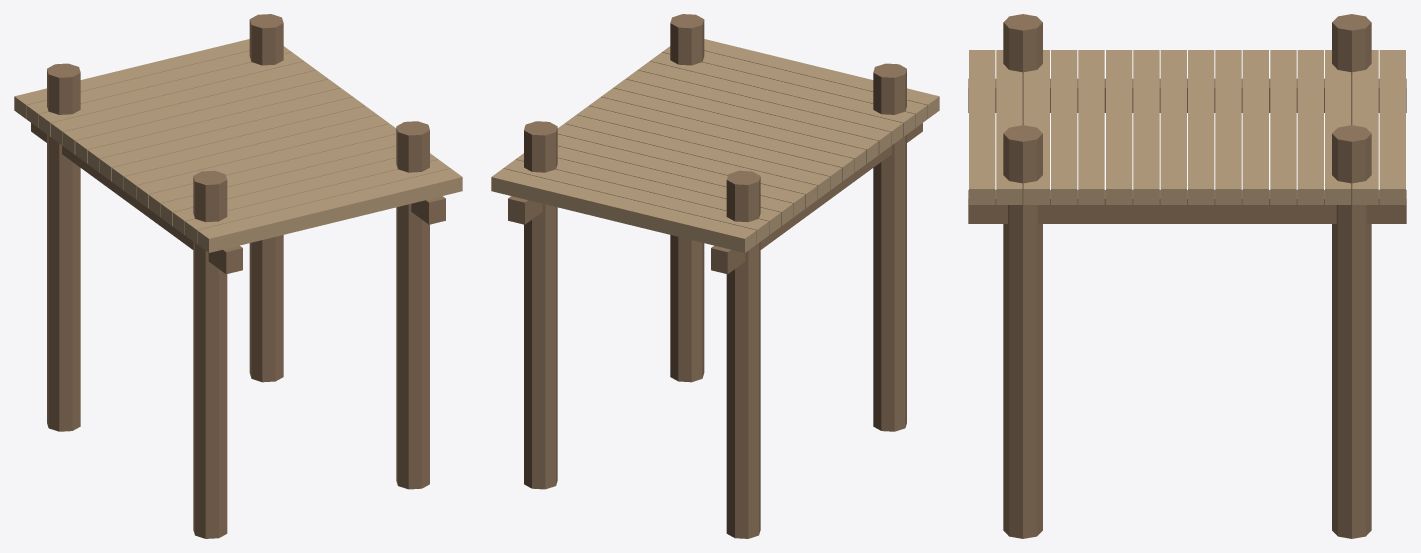
Rendered from pier.glb.
3 views of the same model, side by side, from view 1: azimuth 30°, elevation 25°; view 2: azimuth 150°, elevation 25°; view 3: azimuth 270°, elevation 25° (orthographic). The views are drawn at different scales.
Parts seen in each view (by area): view 1: Piling, Piling.001, Piling.002, DeckPlank, Piling.003, DeckPlank.008, DeckPlank.010, DeckPlank.009, DeckPlank.011, DeckPlank.006, DeckPlank.007, DeckPlank.012 (+10 smaller); view 2: Piling.001, Piling, Piling.003, DeckPlank.015, Piling.002, DeckPlank.007, DeckPlank.005, DeckPlank.004, DeckPlank.006, DeckPlank.009, DeckPlank.008, DeckPlank.003 (+10 smaller); view 3: Piling.002, Piling.003, Bearer.001, DeckPlank, DeckPlank.003, DeckPlank.004, DeckPlank.005, DeckPlank.006, DeckPlank.007, DeckPlank.008, DeckPlank.009, DeckPlank.010 (+10 smaller).
Boxes of the visible parts, x1,y1,x2,y2 form: Piling: (193,170,227,538); Piling.001: (47,63,80,431); Piling.002: (396,121,429,489); DeckPlank: (197,168,462,252); Piling.003: (249,14,283,382); DeckPlank.008: (99,97,364,181); DeckPlank.010: (75,79,340,163); DeckPlank.009: (87,88,352,172); DeckPlank.011: (63,70,327,154); DeckPlank.006: (124,115,389,199); DeckPlank.007: (112,106,377,190); DeckPlank.012: (51,61,315,145); Piling.001: (726,170,760,538); Piling: (873,63,906,431); Piling.003: (524,121,557,489); DeckPlank.015: (491,168,756,252); Piling.002: (670,14,704,382); DeckPlank.007: (589,97,854,181); DeckPlank.005: (613,79,878,163); DeckPlank.004: (626,70,890,154); DeckPlank.006: (601,88,866,172); DeckPlank.009: (564,115,829,199); DeckPlank.008: (576,106,841,190); DeckPlank.003: (638,61,902,145); Piling.002: (1003,125,1042,538); Piling.003: (1332,125,1371,538); Bearer.001: (968,190,1406,223); DeckPlank: (969,50,995,204); DeckPlank.003: (1051,50,1077,204); DeckPlank.004: (1078,50,1104,204); DeckPlank.005: (1106,50,1132,204); DeckPlank.006: (1133,50,1159,204); DeckPlank.007: (1160,50,1186,204); DeckPlank.008: (1188,50,1214,204); DeckPlank.009: (1215,50,1241,204); DeckPlank.010: (1242,50,1268,204).
Size of the model in its own units: 3 by 4 by 4.
